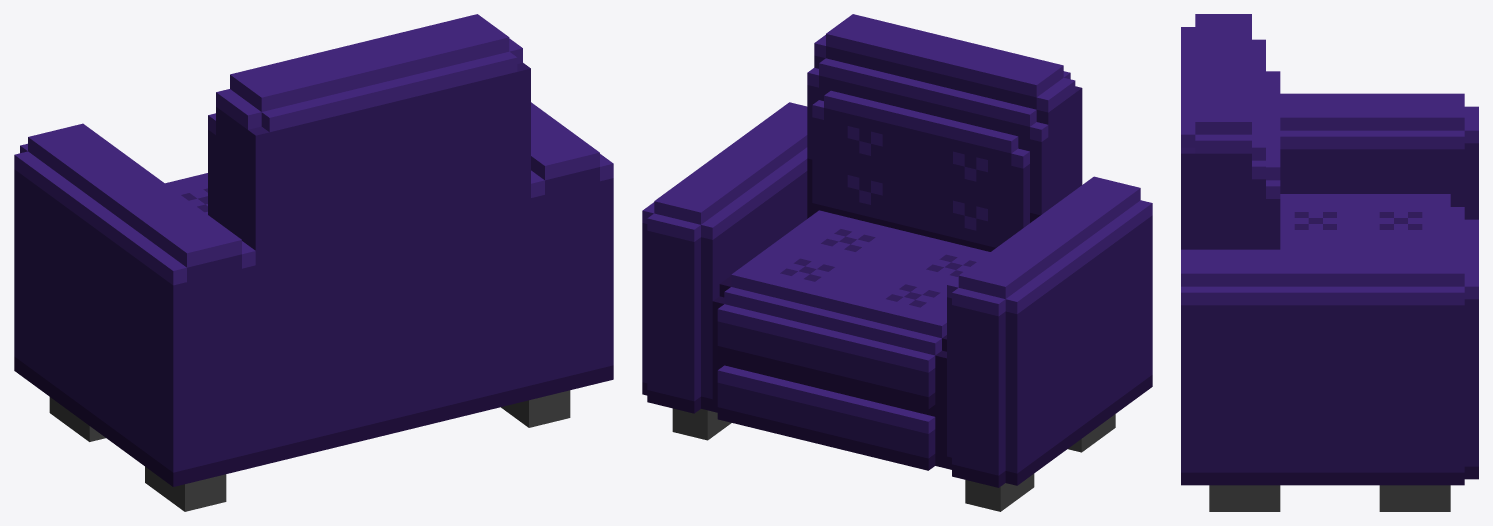
File: sofa1.obj
The picture shows the model from 3 angles, left to right: view 1: azimuth 30°, elevation 25°; view 2: azimuth 150°, elevation 25°; view 3: azimuth 270°, elevation 25°; orthographic projection. The views are drawn at different scales.
Parts seen in each view (by area): view 1: sofa1; view 2: sofa1; view 3: sofa1.
Boxes of the visible parts, x1=… form: sofa1: x1=14, y1=14, x2=613, y2=511; sofa1: x1=642, y1=14, x2=1152, y2=511; sofa1: x1=1181, y1=14, x2=1478, y2=511.
Bounding box in the file's own units: 32 × 28 × 21.
1 material, 1 textured.
